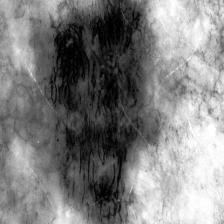Benign Marking or Mole: (43, 0, 158, 224)
